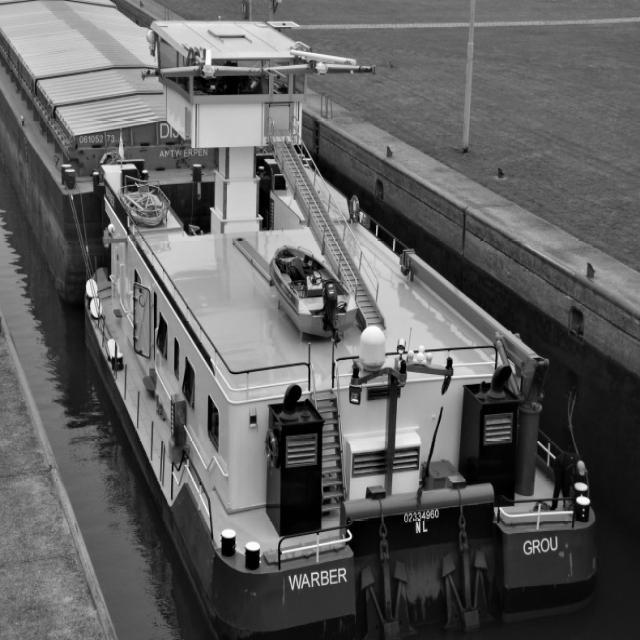tugboat: (71, 18, 608, 640)
